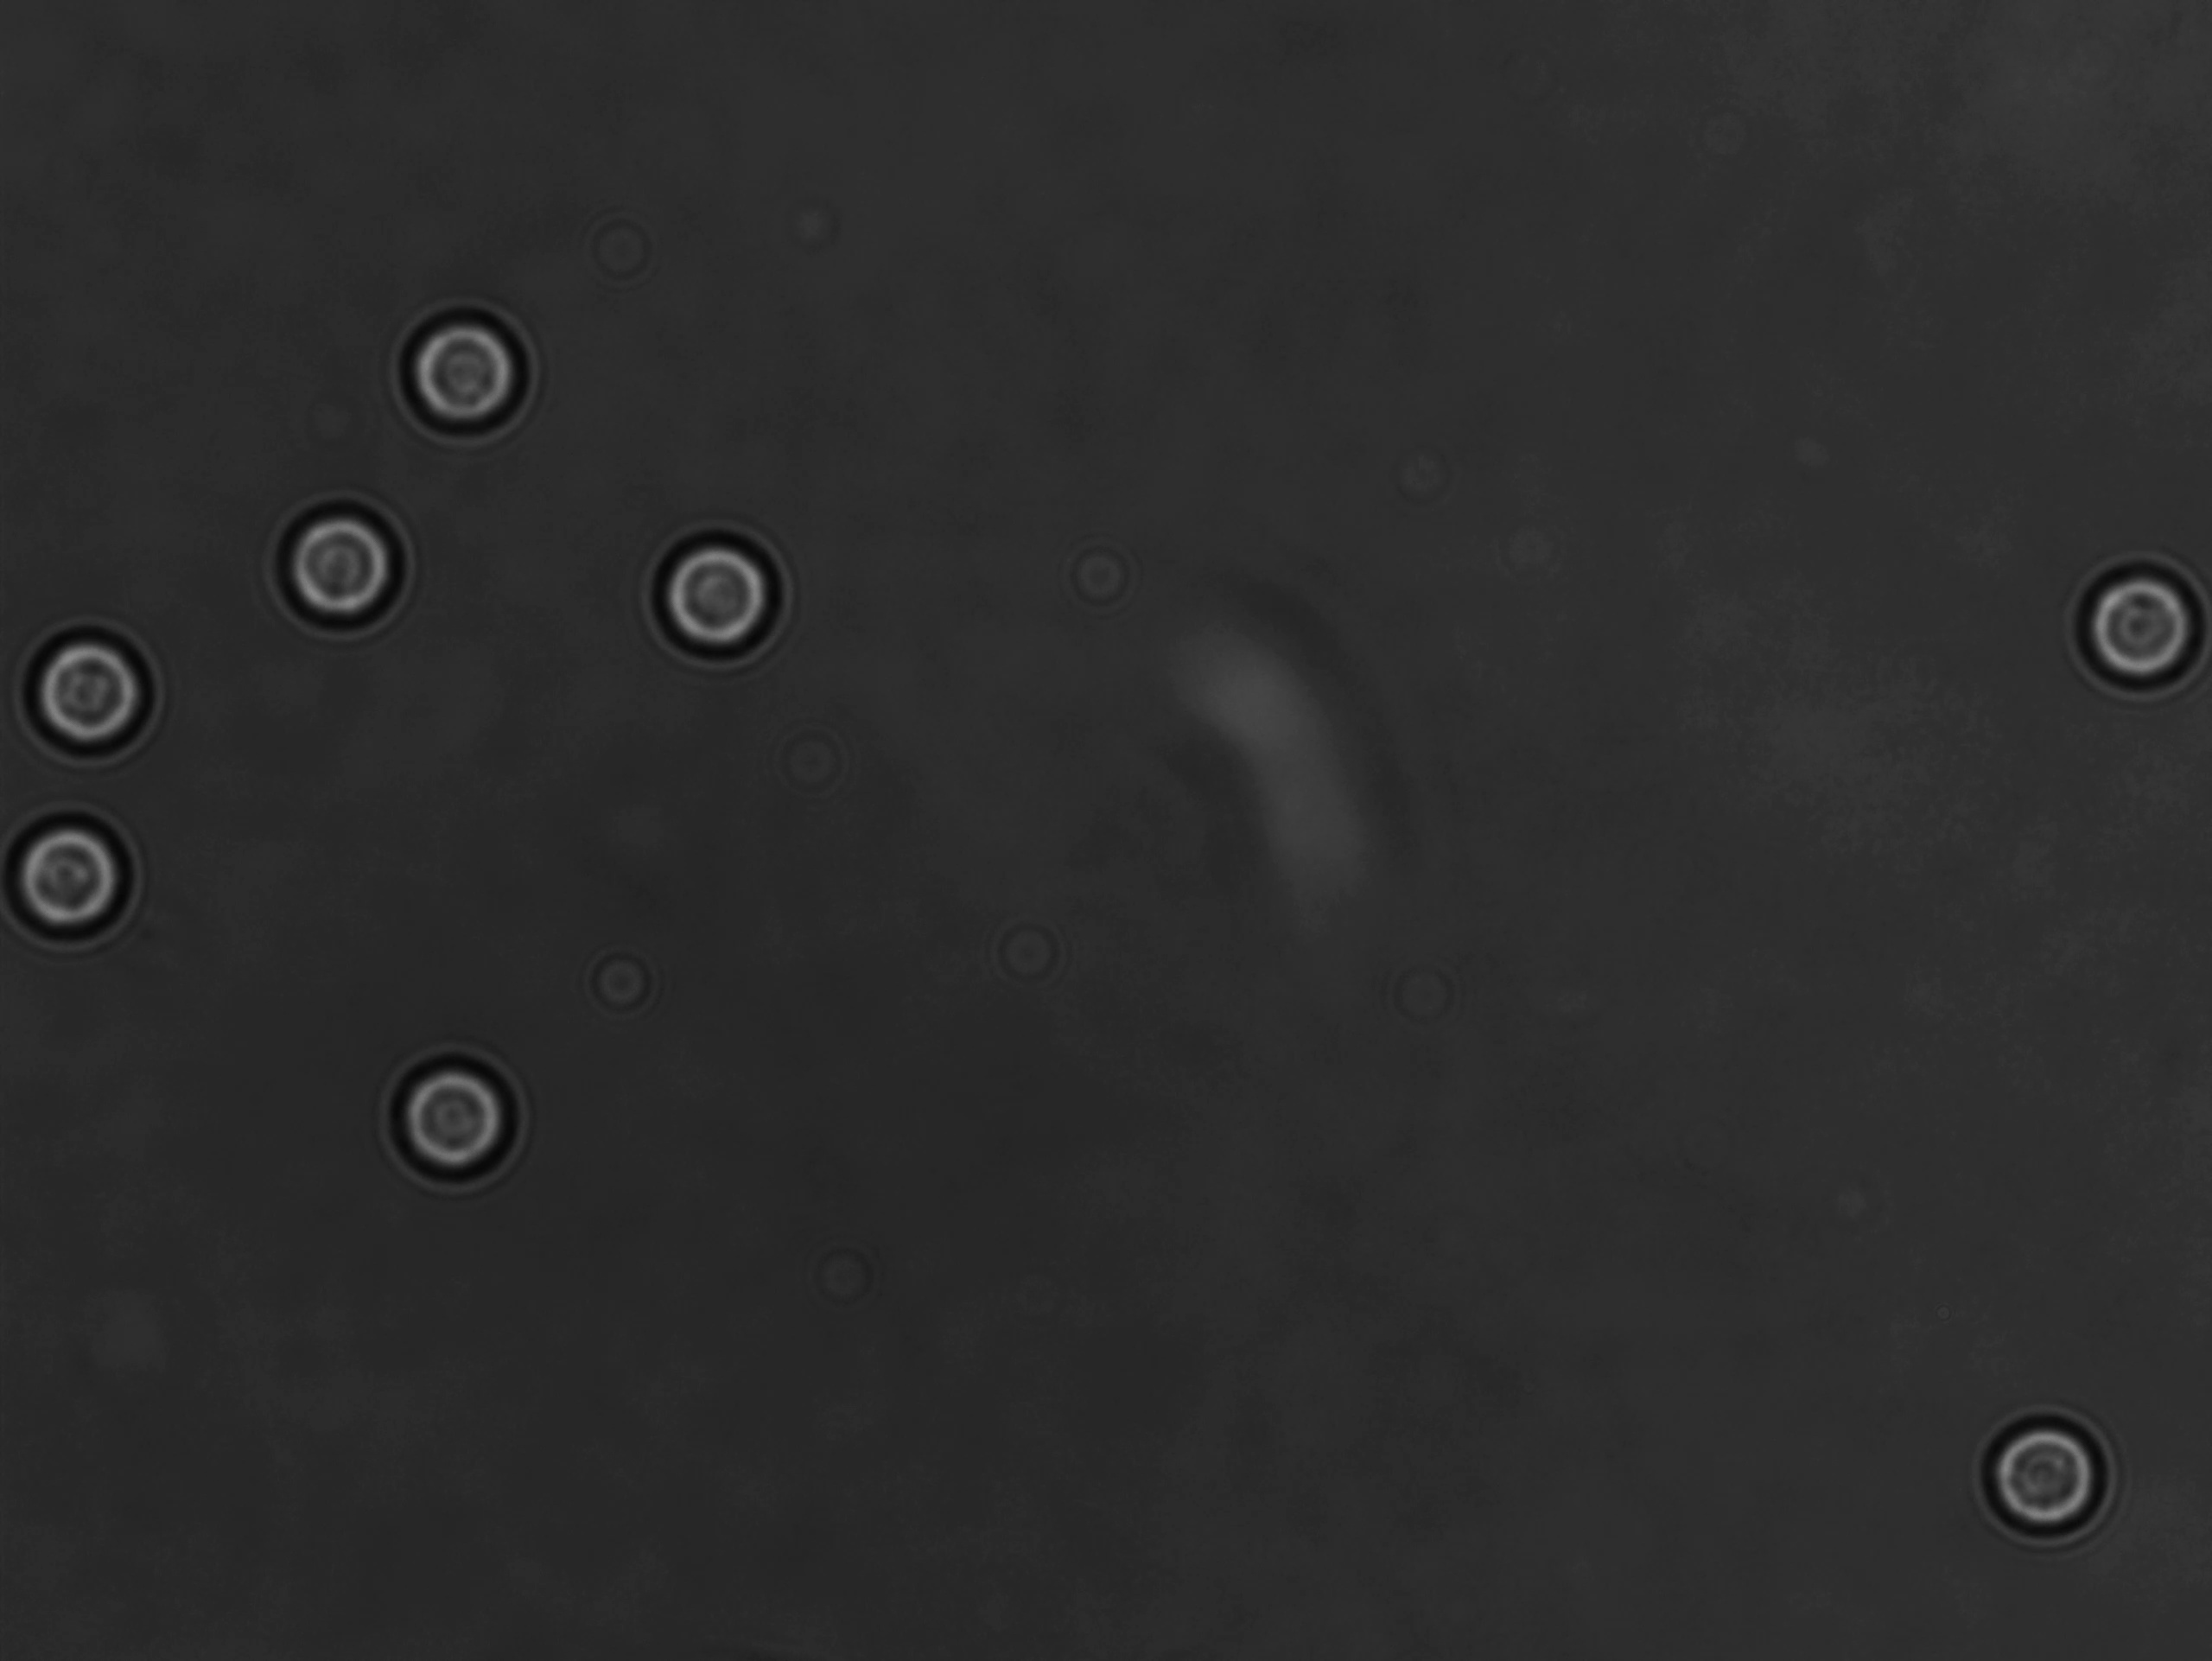depth:20: (10, 600, 180, 769), (1968, 1405, 2144, 1562), (361, 1028, 525, 1190), (2055, 541, 2212, 710), (253, 482, 410, 647), (637, 499, 790, 668), (398, 291, 546, 445)
